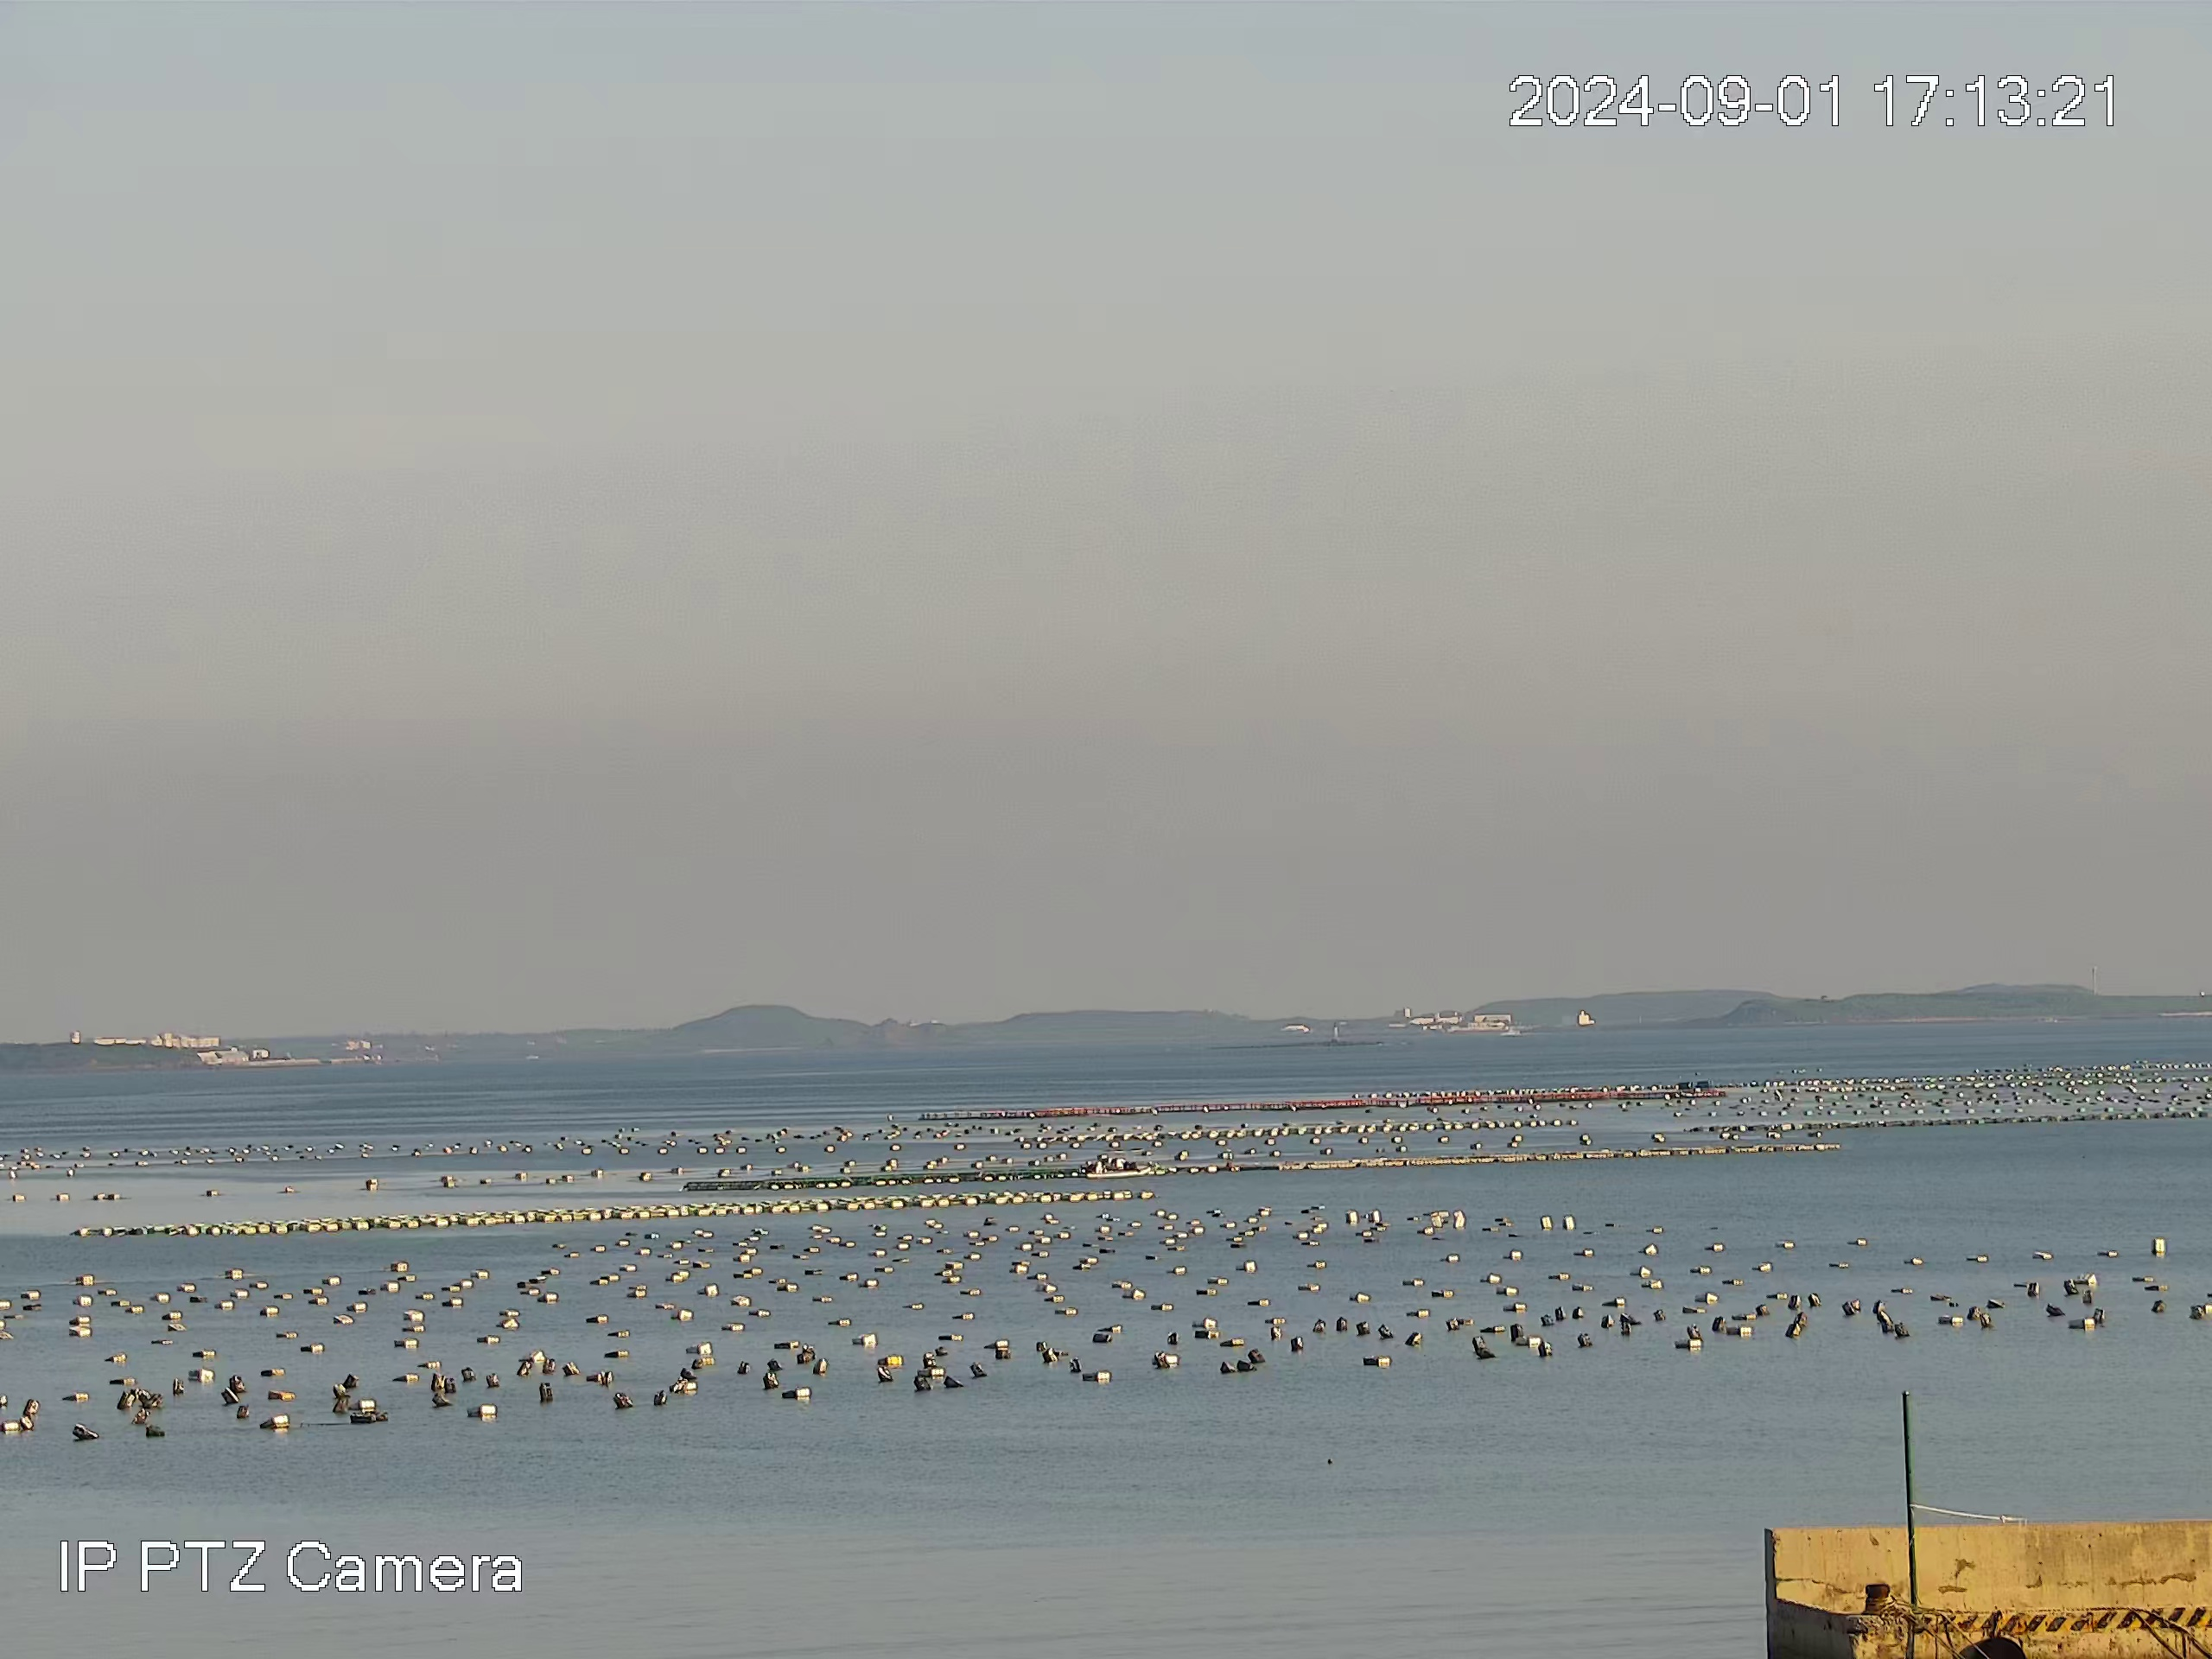boat: (1088, 1158, 1150, 1176)
